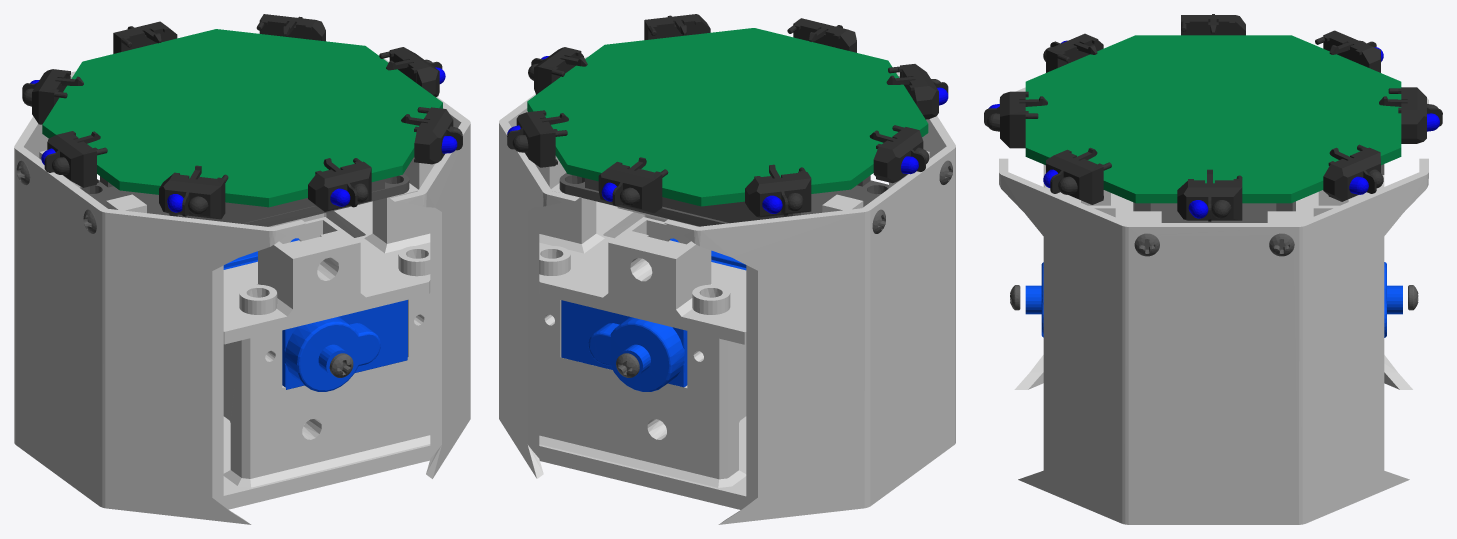
3 renders of one model, left to right at view 1: azimuth 30°, elevation 25°; view 2: azimuth 150°, elevation 25°; view 3: azimuth 270°, elevation 25°, orthographic.
Parts seen in each view (by area): view 1: node1, node14, node32, node23, node9, node0, node35, node5, node10, node39, node16, node31; view 2: node1, node14, node30, node23, node31, node10, node35, node16, node9, node0, node39, node5; view 3: node1, node14, node5, node39, node16, node0, node31, node23, node10, node35, node9, node30 (+1 smaller).
Part boxes in pixels (x1,y1,x2,y2): node1: [14, 58, 470, 524]; node14: [42, 29, 442, 207]; node32: [223, 260, 407, 391]; node23: [80, 173, 409, 226]; node9: [159, 165, 228, 219]; node0: [308, 158, 371, 211]; node35: [44, 131, 107, 187]; node5: [401, 107, 462, 164]; node10: [22, 69, 83, 124]; node39: [379, 47, 442, 96]; node16: [256, 14, 325, 41]; node31: [113, 21, 177, 53]; node1: [499, 56, 955, 524]; node14: [527, 28, 928, 206]; node30: [561, 259, 746, 391]; node23: [559, 173, 888, 226]; node31: [598, 157, 668, 213]; node10: [745, 164, 811, 217]; node35: [869, 125, 925, 183]; node16: [507, 110, 568, 167]; node9: [886, 64, 948, 119]; node0: [787, 18, 856, 52]; node39: [531, 47, 587, 94]; node5: [644, 14, 710, 40]; node1: [999, 87, 1428, 524]; node14: [1025, 35, 1401, 203]; node5: [1046, 147, 1111, 204]; node39: [1177, 169, 1242, 221]; node16: [1323, 144, 1380, 201]; node0: [984, 91, 1047, 148]; node31: [1379, 87, 1442, 143]; node23: [1133, 201, 1295, 222]; node10: [1315, 30, 1380, 72]; node35: [1181, 14, 1245, 35]; node9: [1046, 33, 1103, 72]; node30: [1384, 262, 1402, 337].
Size of the model in its own units: 0.072 by 0.072 by 0.0583.
